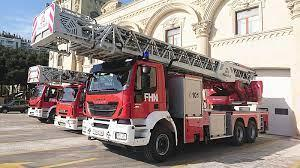Fire-engine: (68, 53, 255, 145), (129, 67, 270, 73)
